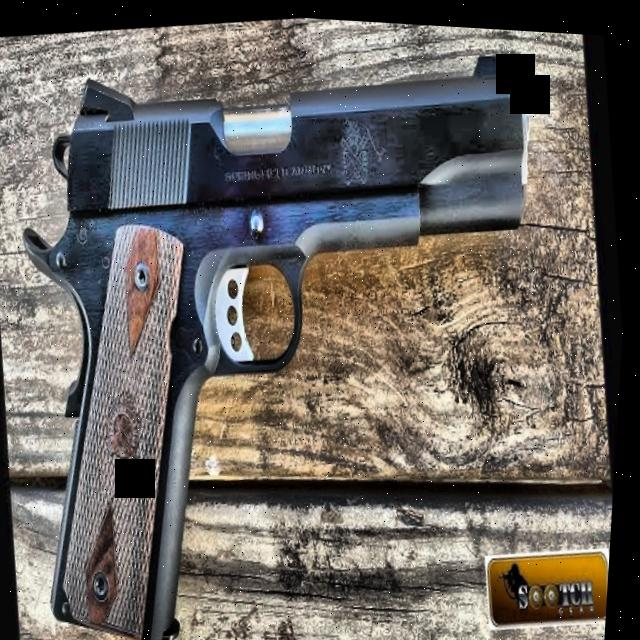Colt m1911: (0, 17, 593, 640)
